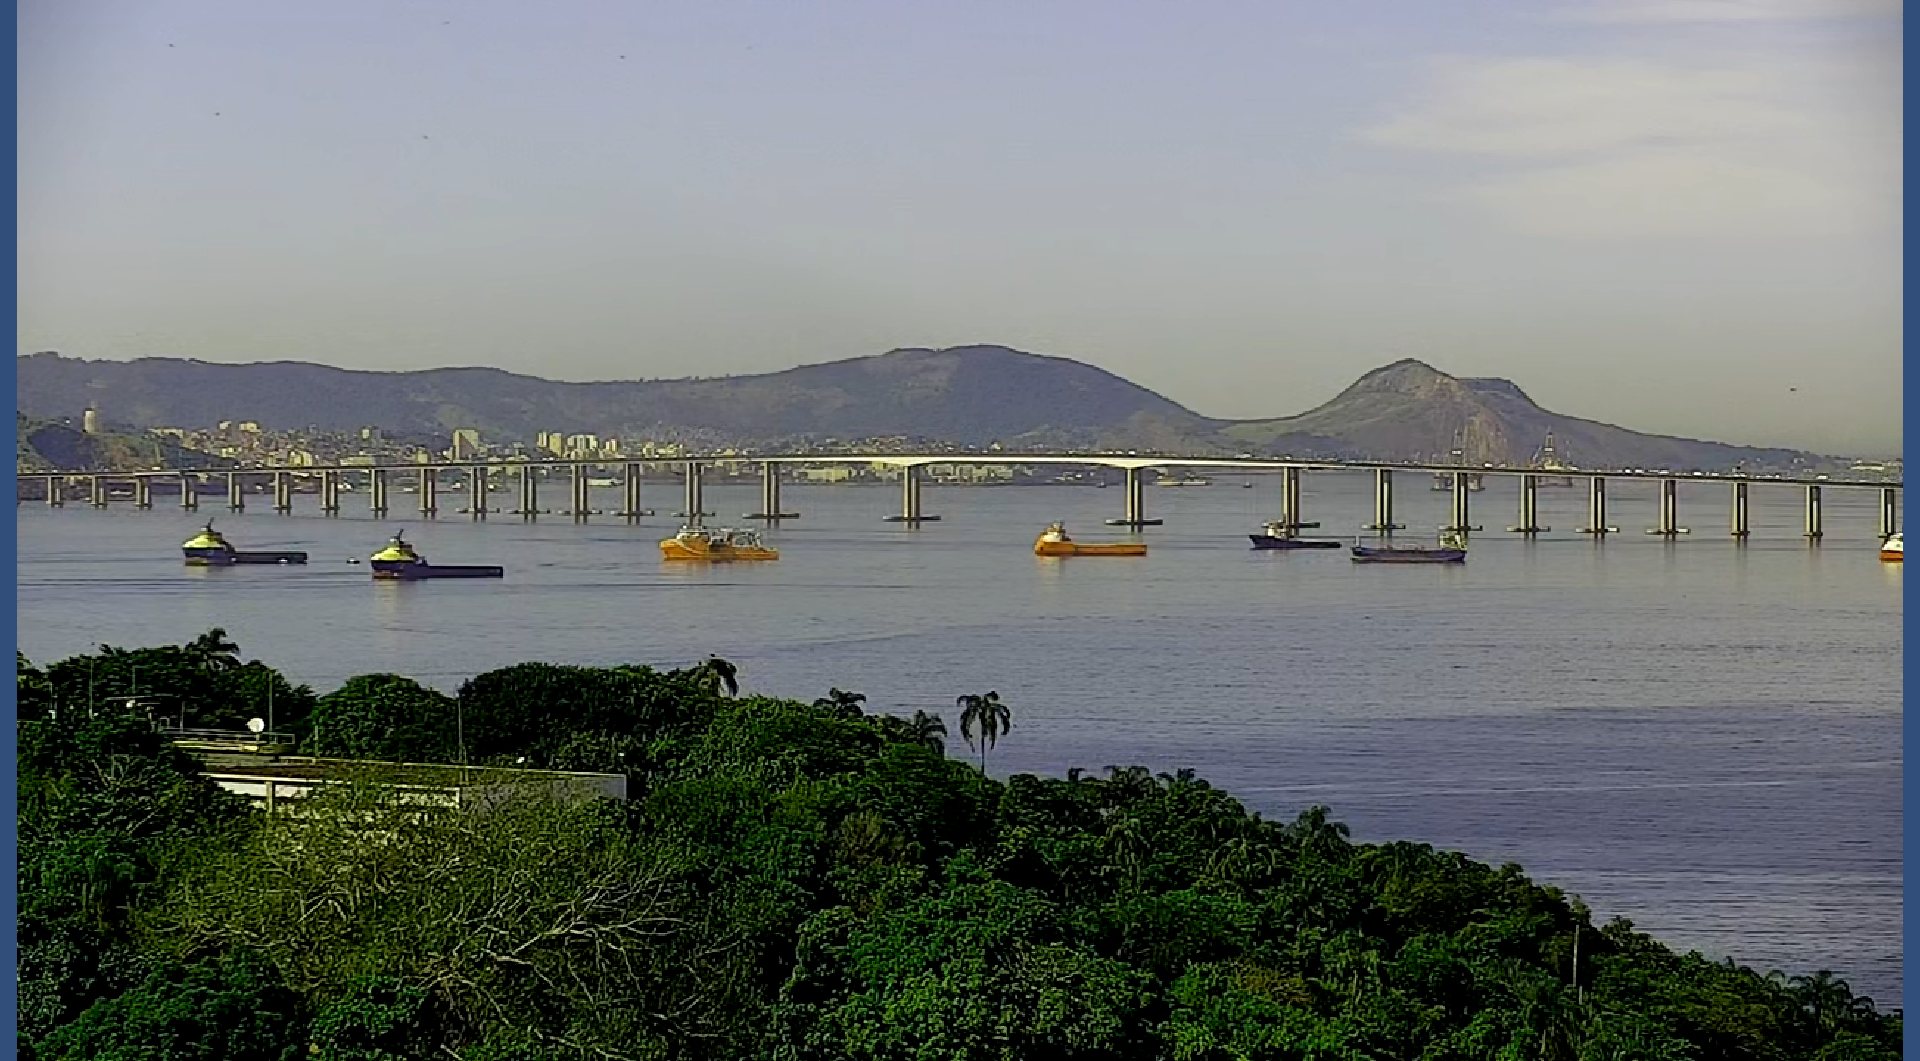Ship2: (1348, 523, 1469, 566)
Ship5: (363, 530, 507, 580), (654, 521, 784, 562), (1031, 517, 1151, 559), (1246, 519, 1345, 551)
Ship7: (346, 555, 360, 564)
